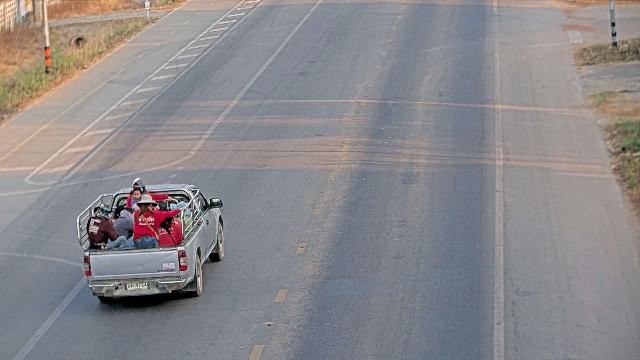pickup-truck: (75, 179, 225, 302)
